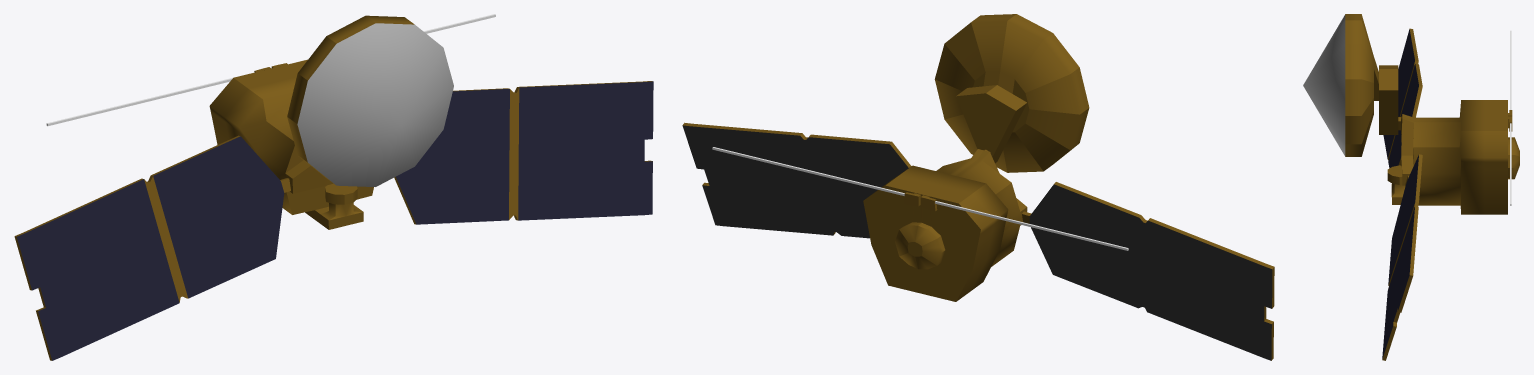
The model's file is MRO1.obj.
The picture shows the model from 3 angles, left to right: view 1: azimuth 30°, elevation 25°; view 2: azimuth 150°, elevation 25°; view 3: azimuth 270°, elevation 25°; orthographic projection. The views are drawn at different scales.
Parts seen in each view (by area): view 1: MRO_Mesh; view 2: MRO_Mesh; view 3: MRO_Mesh.
Boxes of the visible parts, x1=… form: MRO_Mesh: x1=14, y1=14, x2=653, y2=360; MRO_Mesh: x1=682, y1=14, x2=1274, y2=360; MRO_Mesh: x1=1303, y1=14, x2=1519, y2=360.
Size of the model in its own units: 4.58 by 1.94 by 1.7.
